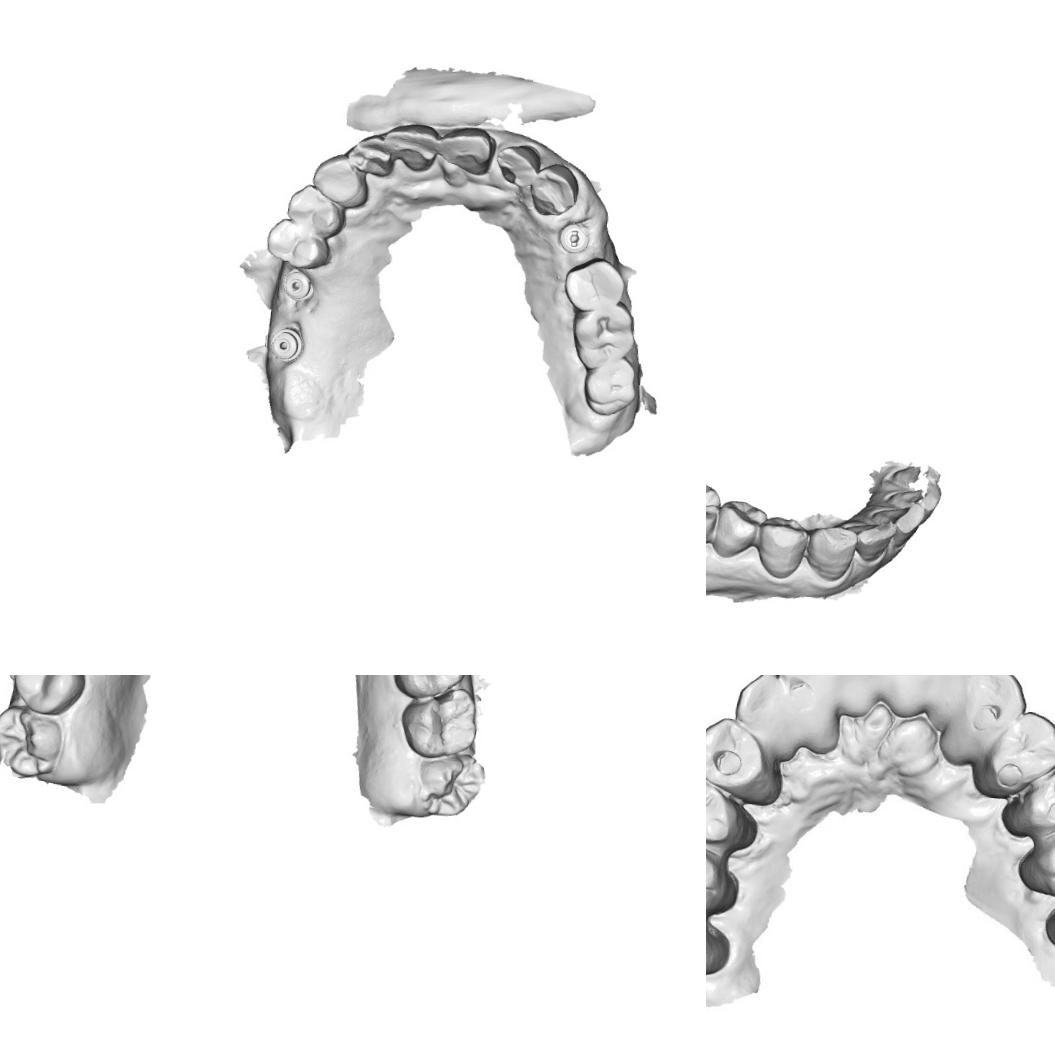canine: (308, 150, 372, 211), (734, 675, 795, 739), (803, 520, 861, 585), (527, 160, 581, 220), (969, 675, 1025, 723)
implant: (266, 322, 306, 364), (278, 268, 316, 305)
implant_minus: (556, 218, 592, 256)
incisor: (434, 122, 497, 178), (379, 118, 440, 175), (867, 497, 926, 544), (840, 516, 899, 563), (492, 140, 544, 192), (344, 131, 394, 180), (776, 675, 827, 697), (933, 675, 983, 693)
molar: (396, 682, 482, 762), (413, 746, 488, 820), (568, 296, 638, 373), (0, 703, 65, 781), (579, 352, 640, 421), (4, 675, 89, 718), (382, 675, 472, 702), (706, 833, 732, 914)
premolar: (982, 706, 1055, 789), (706, 719, 770, 792), (560, 252, 628, 314), (753, 511, 811, 582), (710, 494, 769, 563), (262, 214, 332, 272), (283, 180, 346, 238), (706, 776, 737, 840), (1025, 763, 1055, 828)
